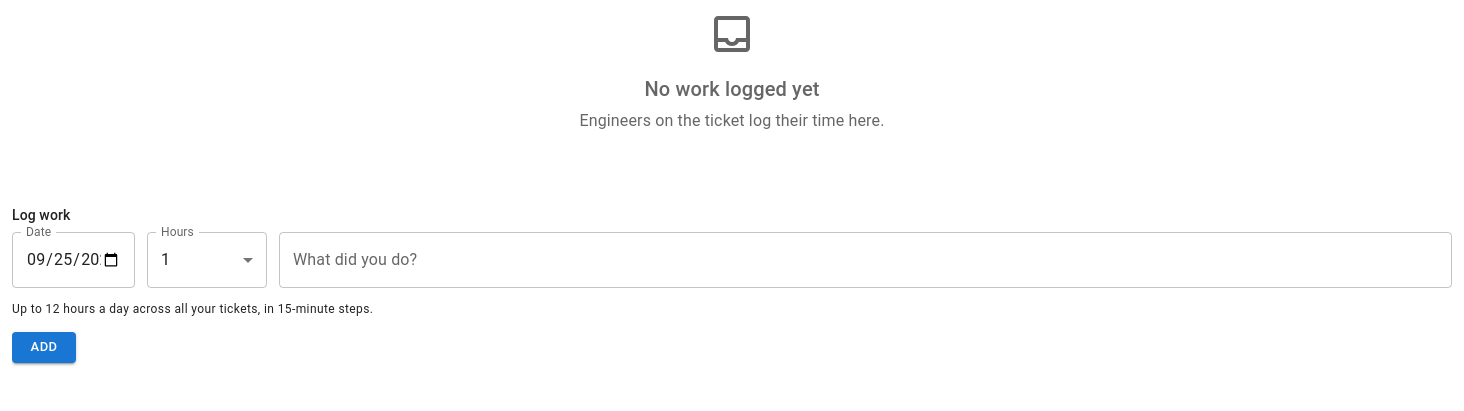
Test: WorkLogPanel › shows the daily-limit error from the server in full
Type "Rewired the dock" into the field labelled "What did you do?". click: (866, 260)
box: [279, 232, 1452, 288]
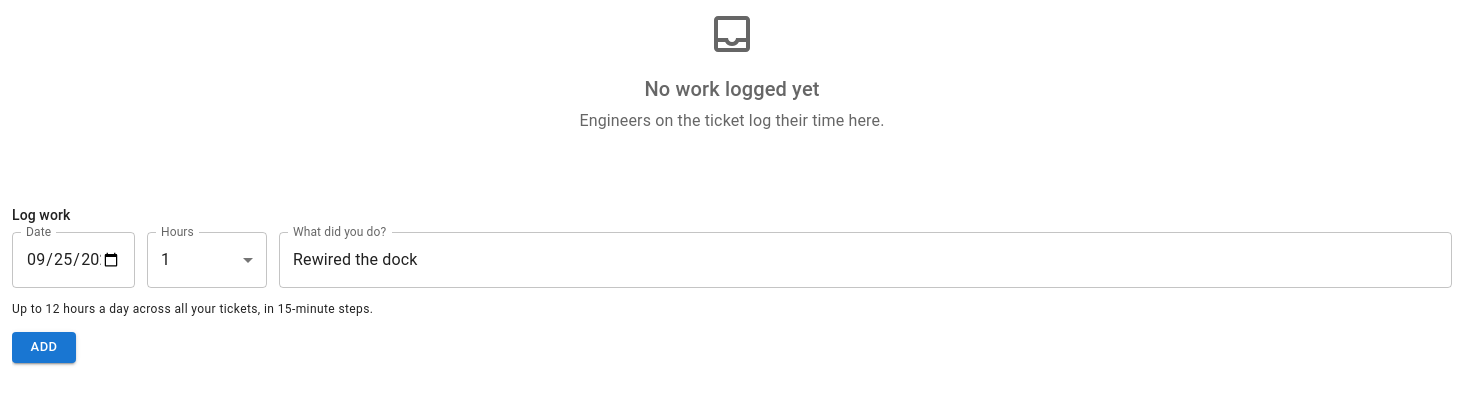
Click the button "Add". click: (44, 347)
box: [12, 332, 76, 363]
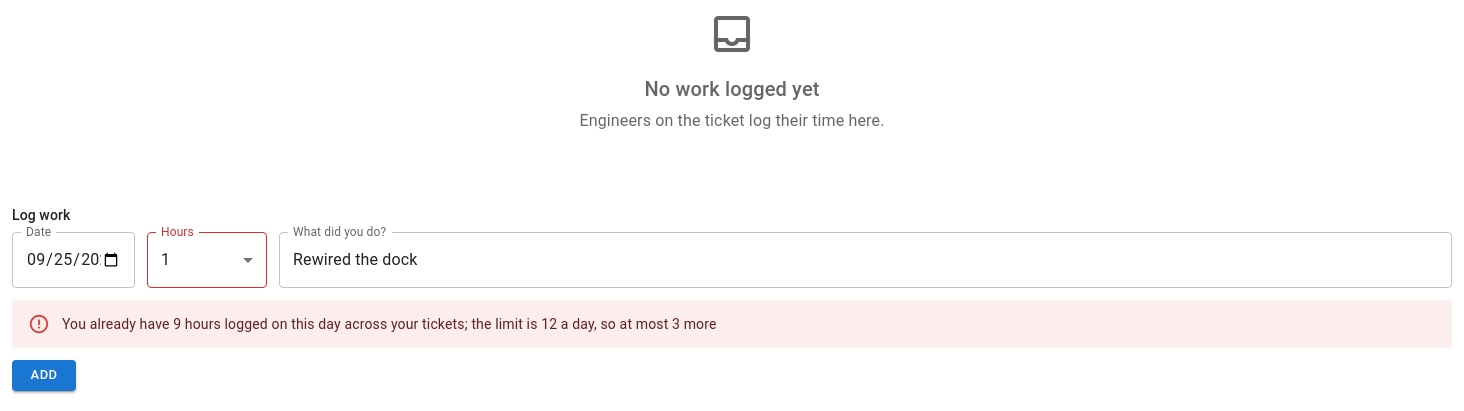
Expected: the message shows "You already have 9 hours logged on this day across your tickets; the limit is 12 a day, so at most 3 more", [62, 316, 717, 332]
